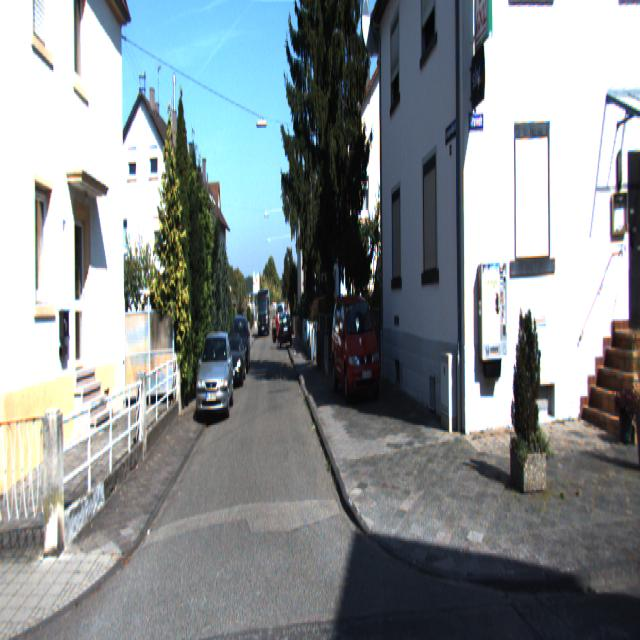Car: (330, 291, 380, 410), (196, 326, 233, 425), (220, 334, 246, 395)
